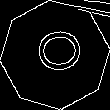O_W: (28, 31, 82, 79)
